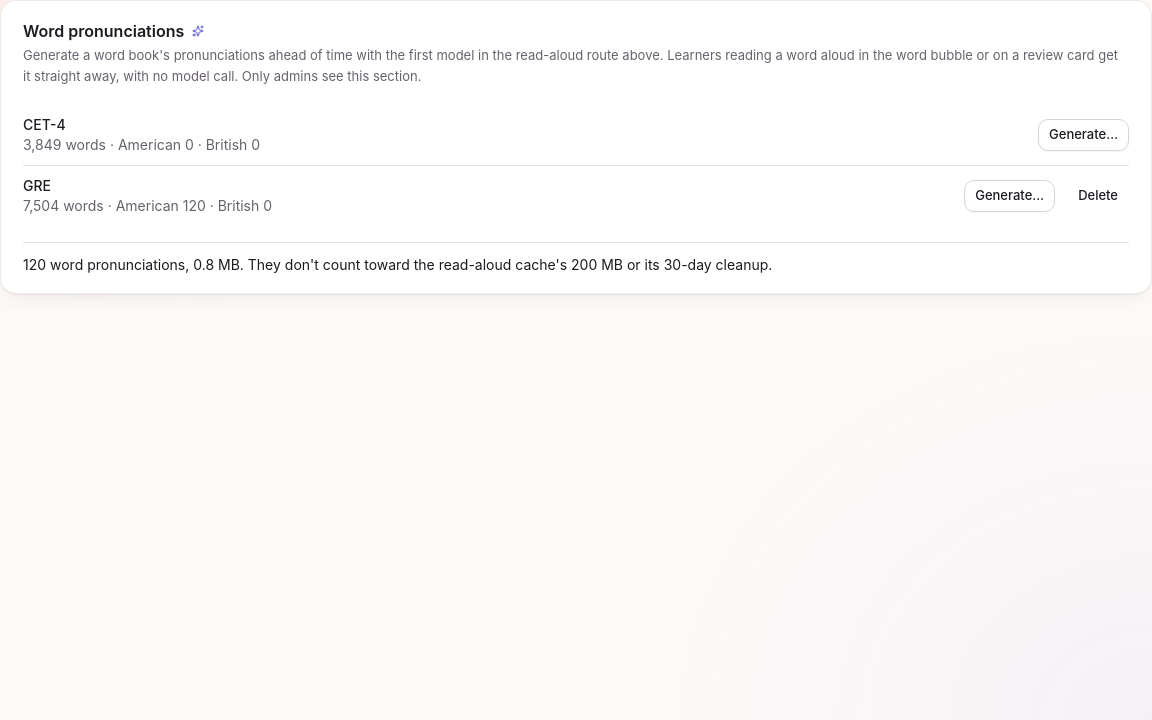
Test: WordAudioSection › estimates a book with Azure's suggested price and pace, then starts it
Click the button with aria-label "Generate pronunciations for CET-4".
click(1084, 135)  # box [1038,119,1129,151]
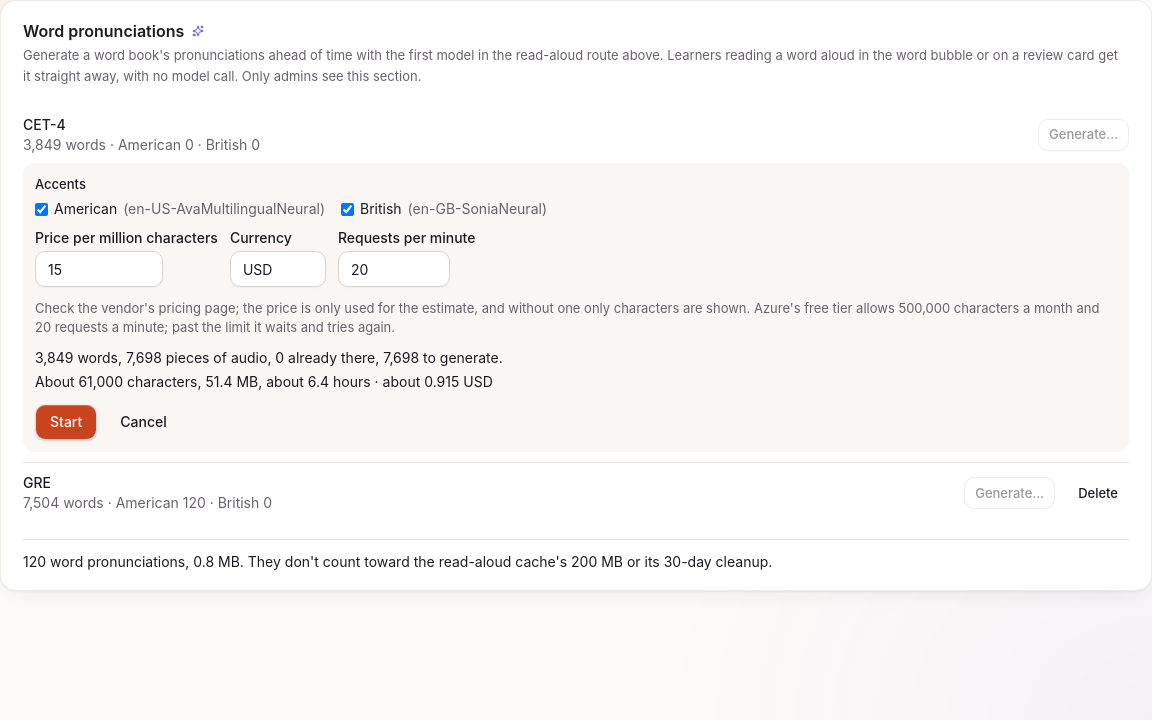
Now the text "7,698 pieces of audio, 0 already there, 7,698 to generate" is shown, box [35,349,503,366]
Now the number field labelled "Price per million characters" holds "15", box [35,251,163,287]
Now the field labelled "Currency" holds "USD", box [230,251,326,287]
Click the button "Start".
click(66, 422)  # box [35,404,97,440]
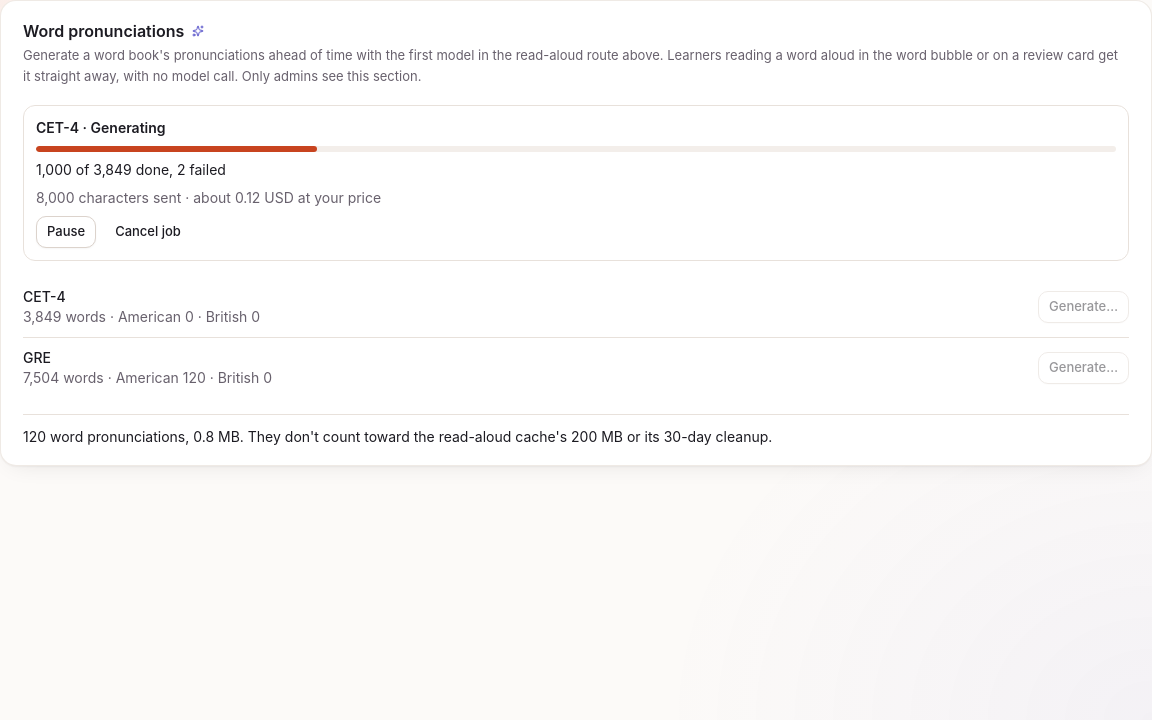
Now the button with aria-label "Generate pronunciations for GRE" is disabled, box [1038,352,1129,384]
Now the heading "CET-4 · Generating" is shown, box [36,119,166,136]
Now the text "1,000 of 3,849 done, 2 failed" is shown, box [36,161,226,178]
